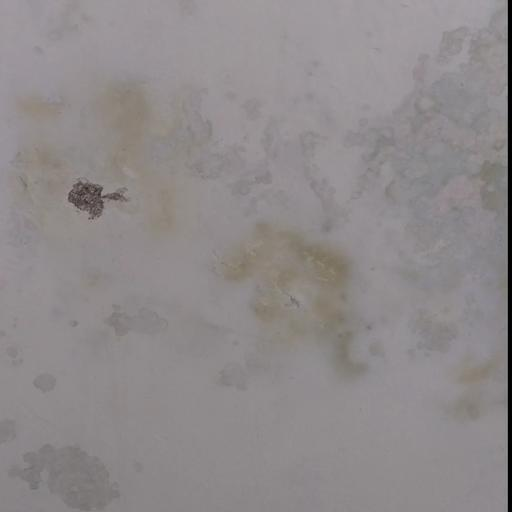stain: (30, 101, 398, 379)
